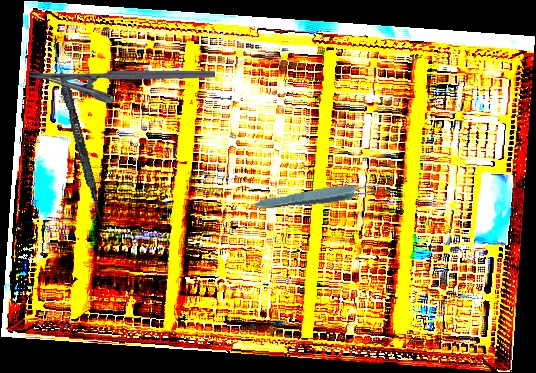Needle Holder: (27, 70, 215, 104)
Spatula Surgical: (45, 36, 110, 229)
Tissue Forceps: (253, 178, 386, 215)
